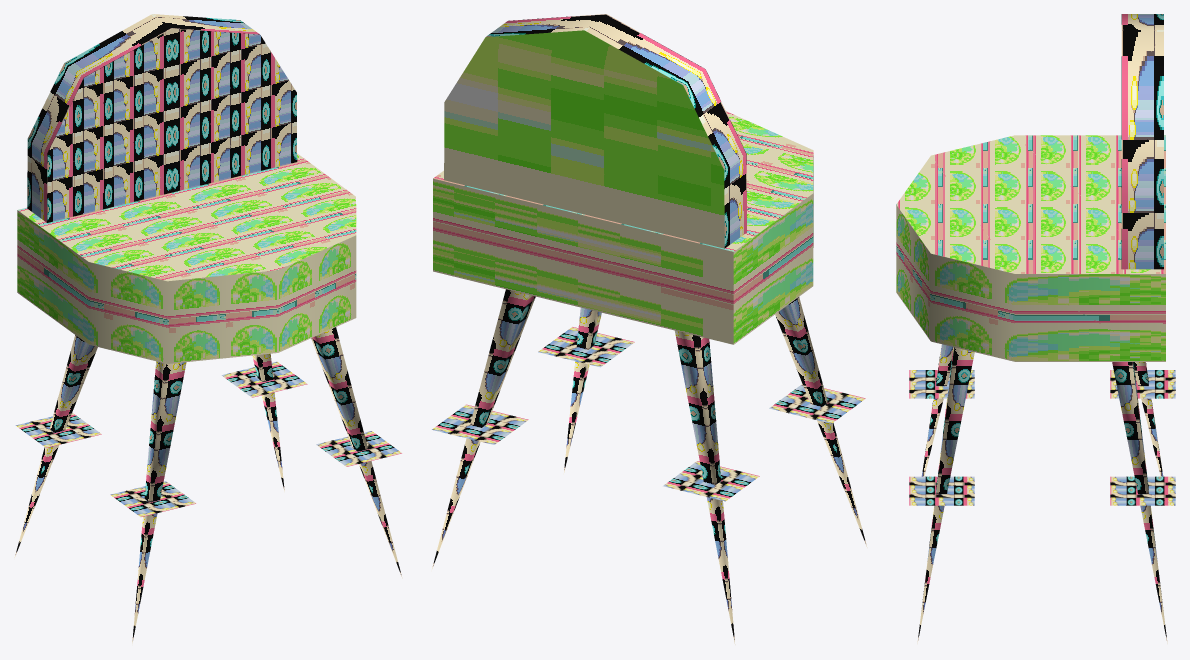
Rendered from 3672kg_ga_dre.gltf.
3 renders of one model, left to right at view 1: azimuth 30°, elevation 25°; view 2: azimuth 150°, elevation 25°; view 3: azimuth 270°, elevation 25°, orthographic. The views are drawn at different scales.
Parts seen in each view (by area): view 1: 3672kg_ga_dre; view 2: 3672kg_ga_dre; view 3: 3672kg_ga_dre.
Part boxes in pixels (x1,y1,x2,y2): 3672kg_ga_dre: (14,14,402,643); 3672kg_ga_dre: (432,14,867,644); 3672kg_ga_dre: (896,14,1175,643).
Bounding box in the file's own units: 0.9521 × 1.73 × 0.801.
Materials: 2 (2 with a texture image).
